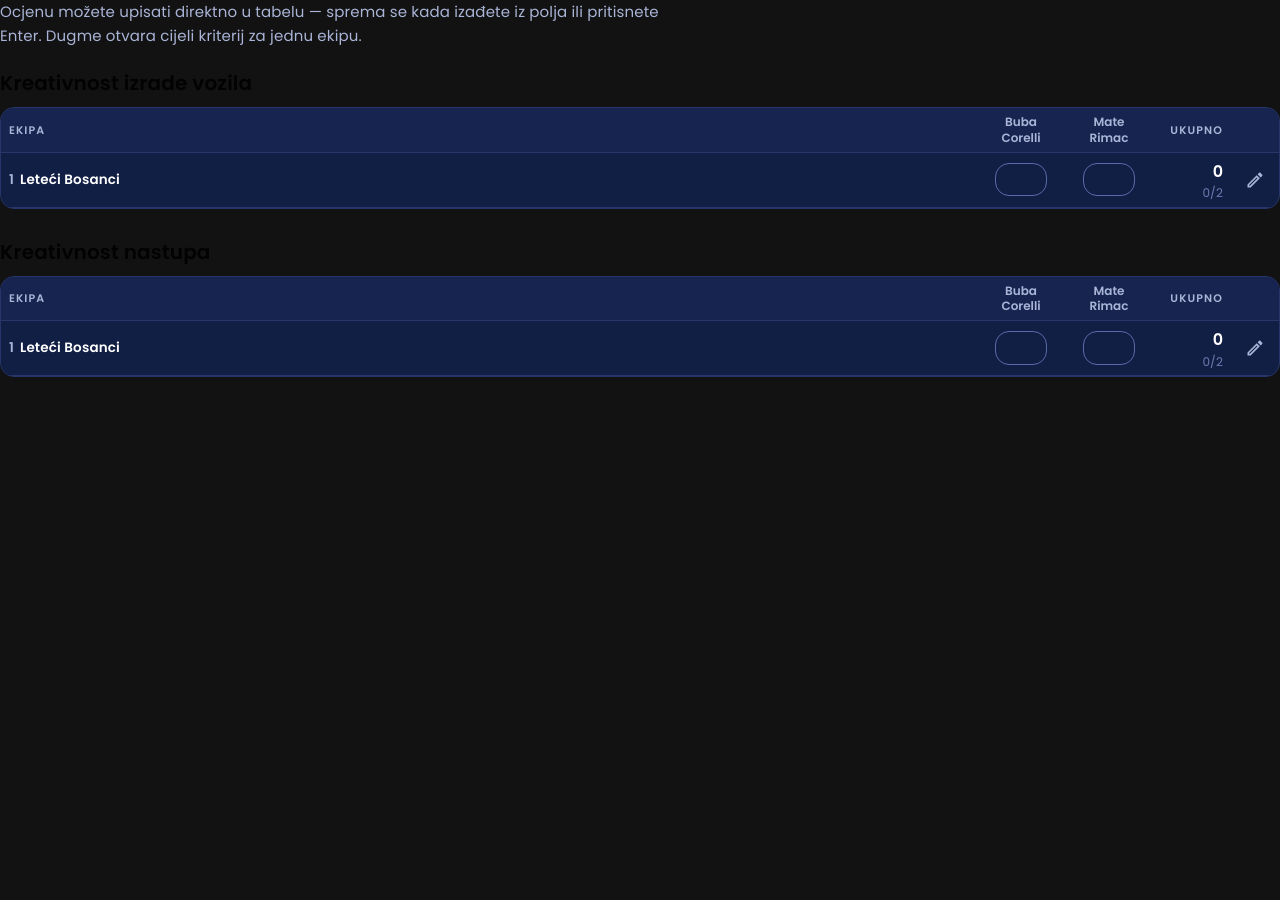
Test case: ScoresTab › surfaces the API's refusal and stays open
Click the button named "Kreativnost izrade vozila — Leteći Bosanci" at (1255, 180), box 1239,164 -> 1271,196
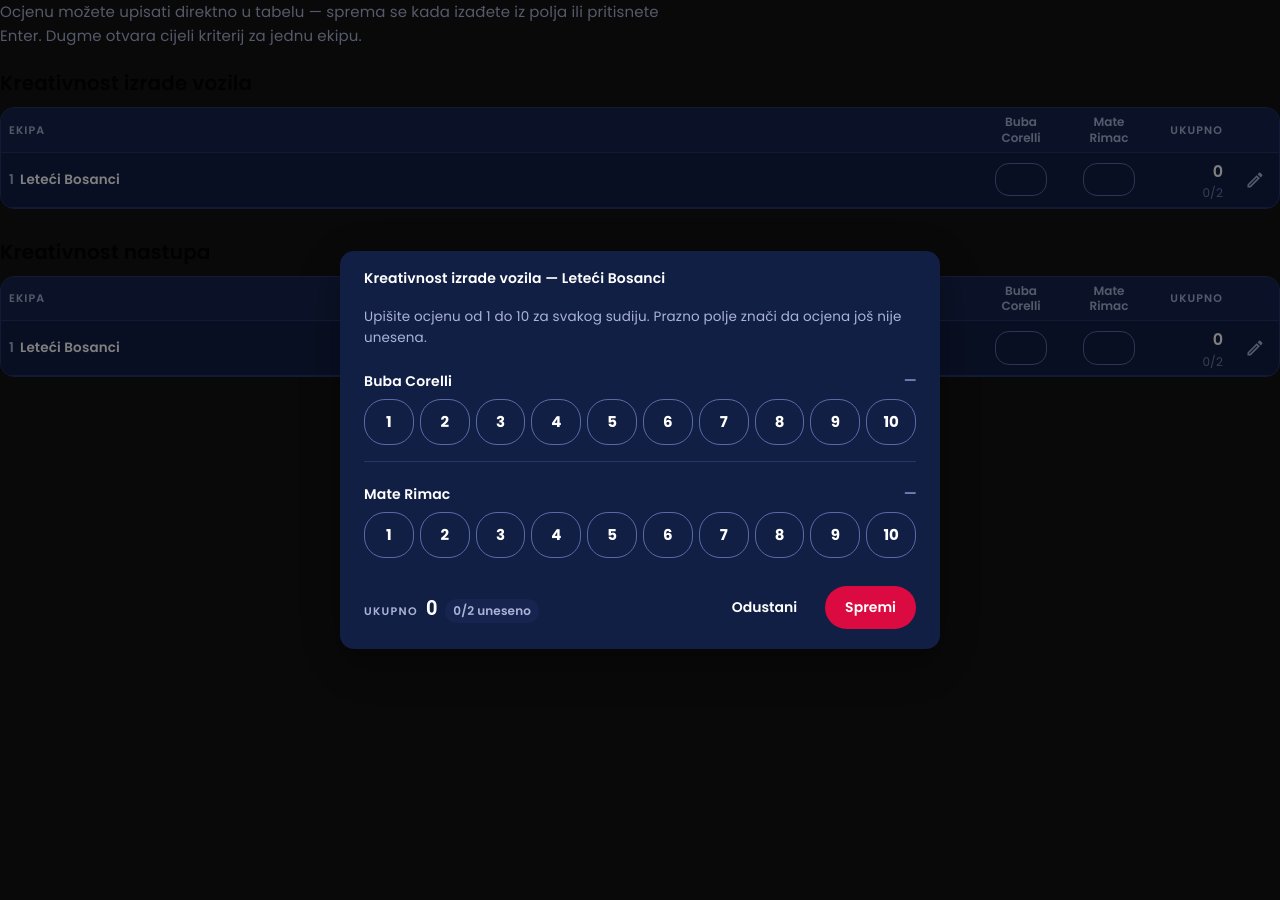
Click the button "Spremi" at (871, 608), box 825,586 -> 916,629
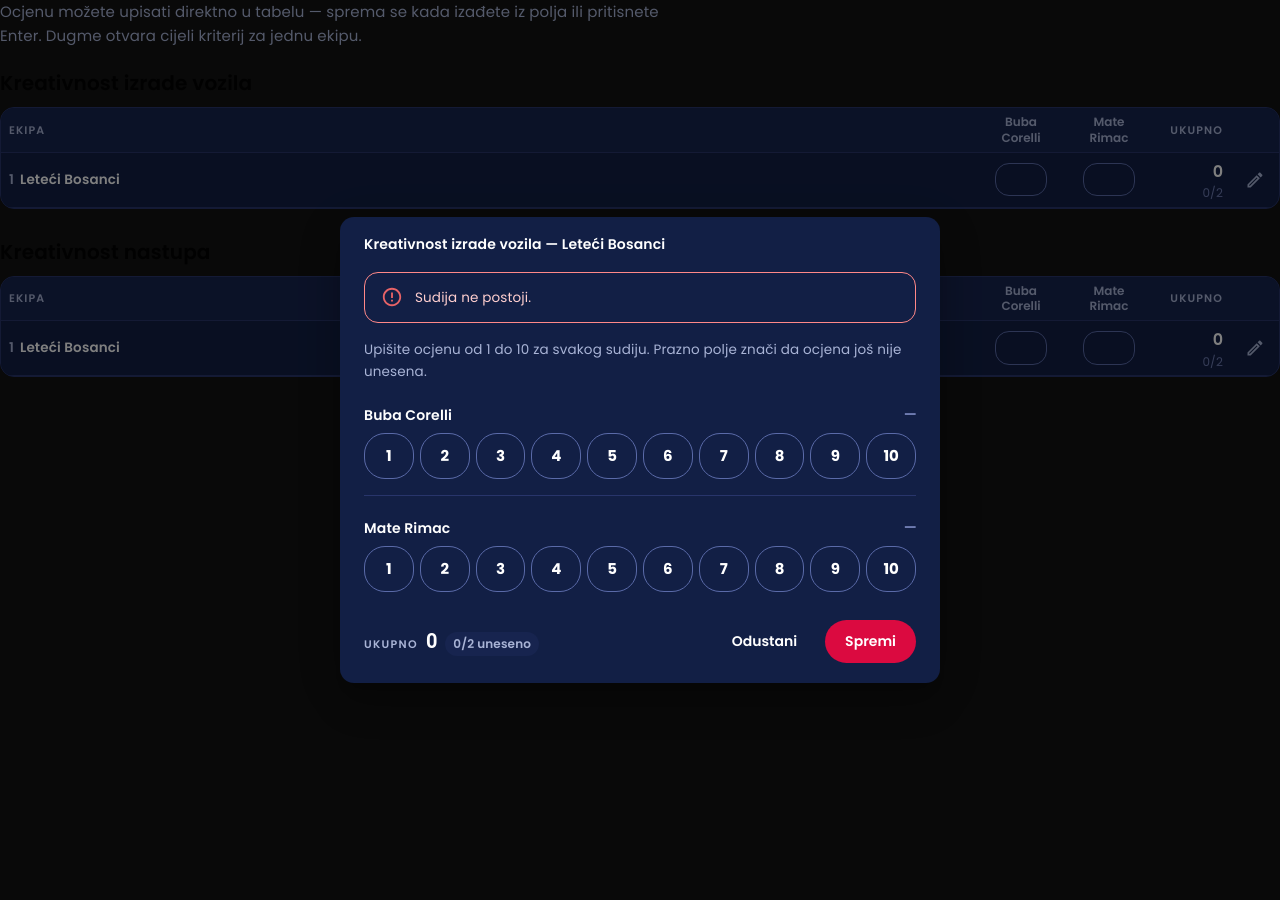
Expected: the dialog is shown, 340,217 -> 940,683
Expected: the text "Sudija ne postoji." is shown, 415,288 -> 531,307
